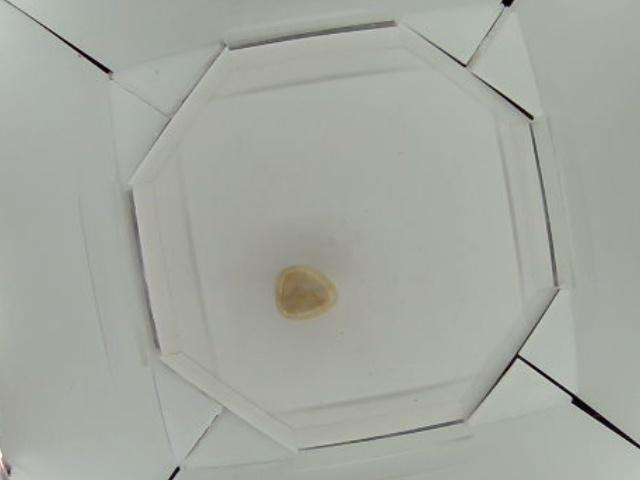Pebble: (275, 262, 337, 320)
